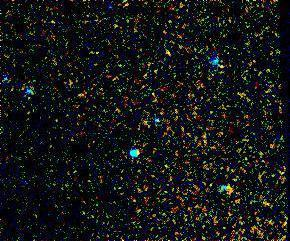star: (197, 100, 227, 130)
